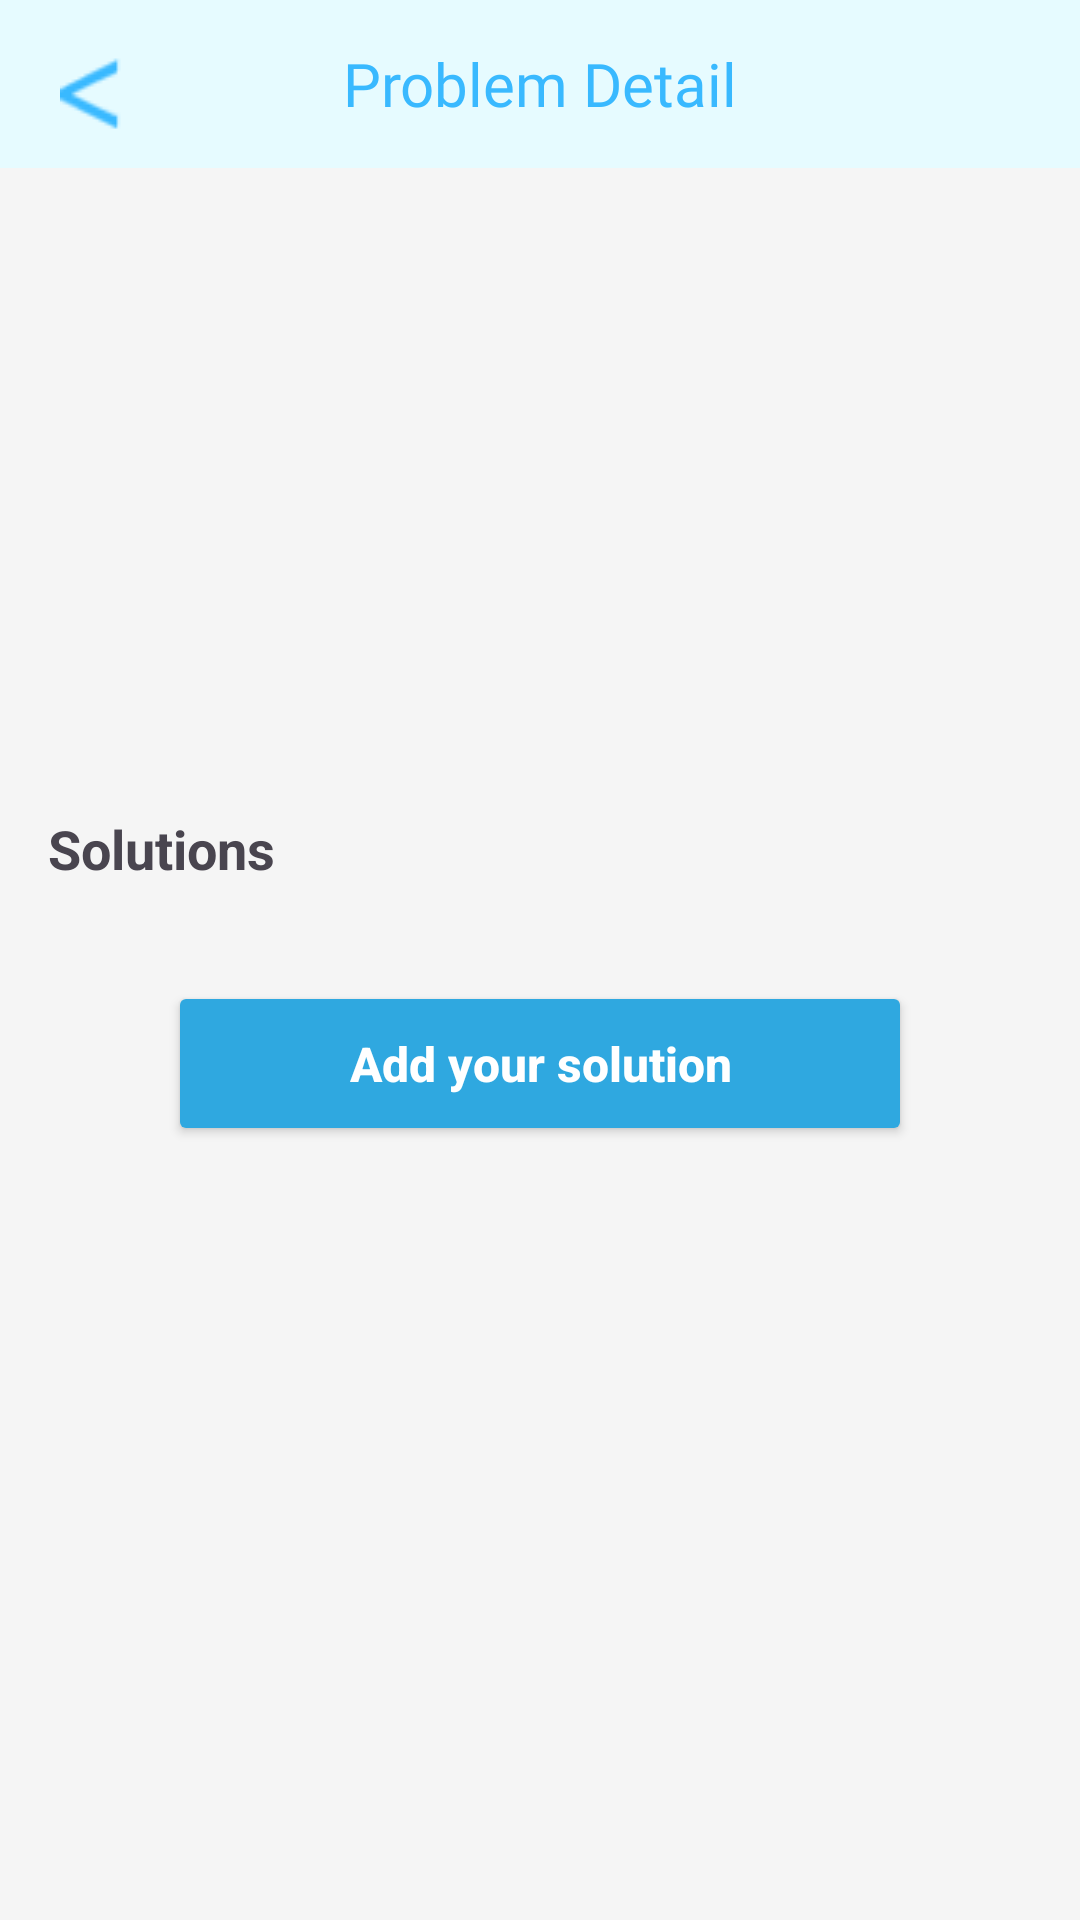

Icon bounding boxes for this 1080px x 1920px phone screenshot, format (x1, y1, x2, y2):
back: (60, 59, 118, 129)
